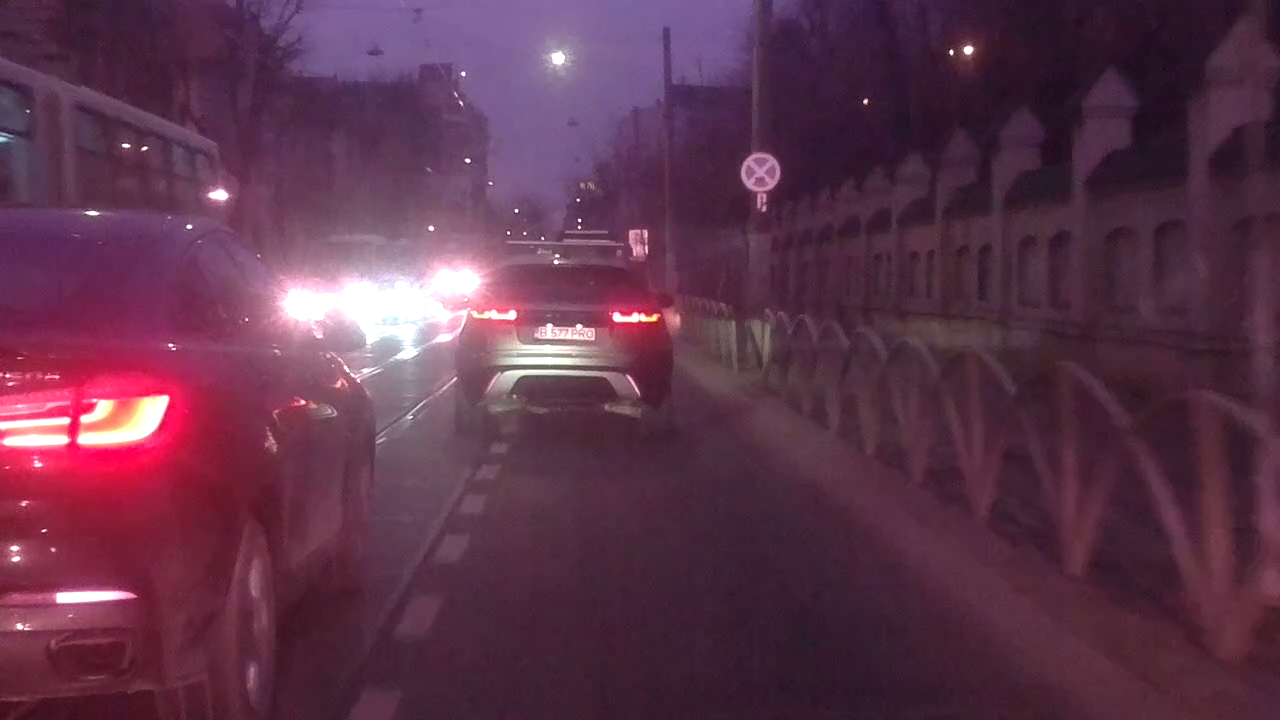license-plate: (532, 324, 597, 342)
